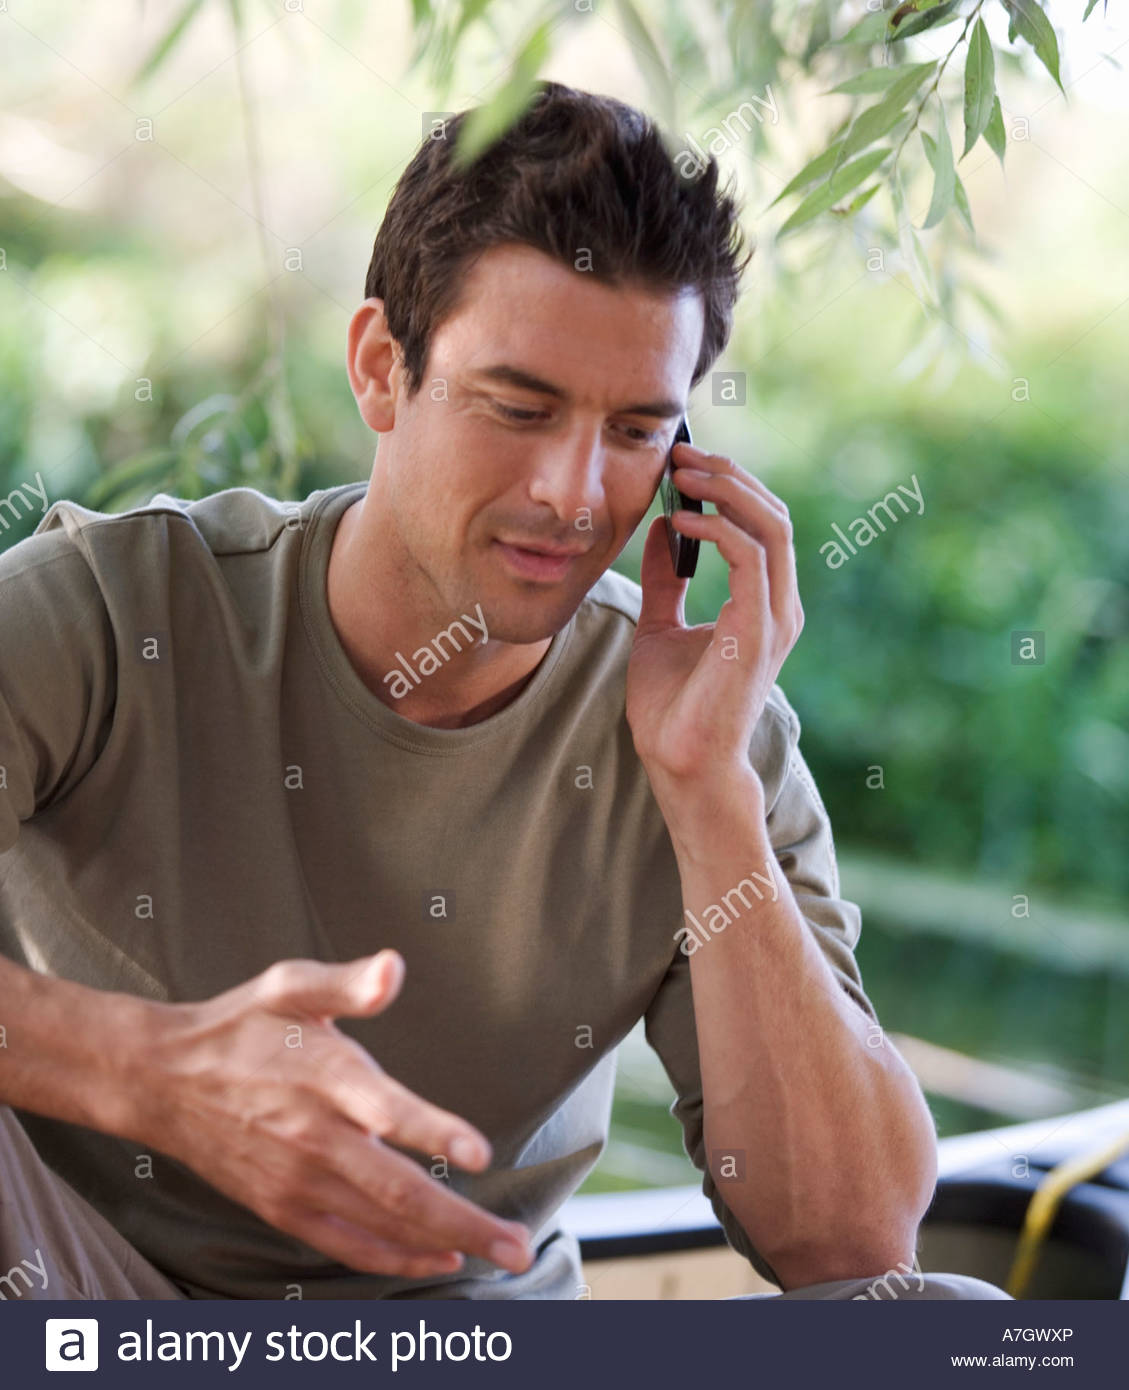phone: (626, 402, 734, 564)
talk: (422, 344, 808, 767)
